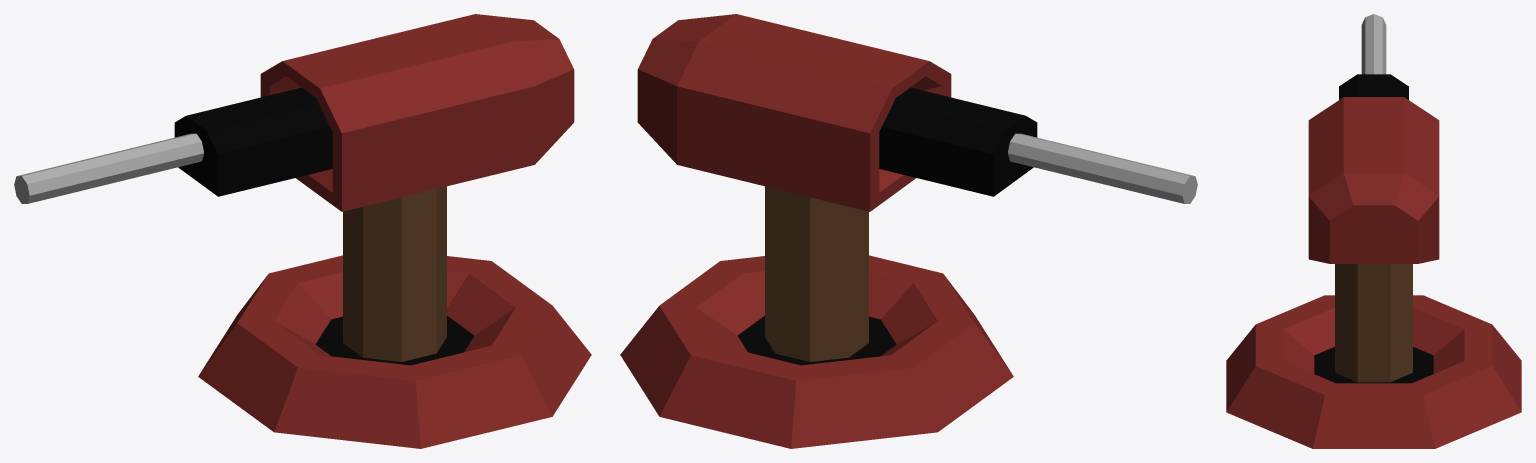
File: Cannon.fbx
3 renders of one model, left to right at view 1: azimuth 30°, elevation 25°; view 2: azimuth 150°, elevation 25°; view 3: azimuth 270°, elevation 25°, orthographic. The views are drawn at different scales.
Visible parts, largest first — view 1: Block_Cannon; view 2: Block_Cannon; view 3: Block_Cannon.
Boxes of the visible parts, x1,y1,x2,y2 form: Block_Cannon: (14, 14, 591, 448); Block_Cannon: (620, 14, 1197, 448); Block_Cannon: (1226, 14, 1521, 448).
Bounding box in the file's own units: 217 × 122 × 129.
